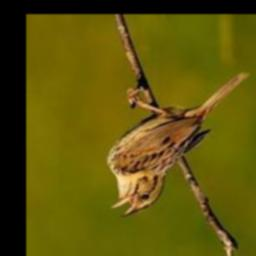Sparrow: (107, 71, 255, 219)
